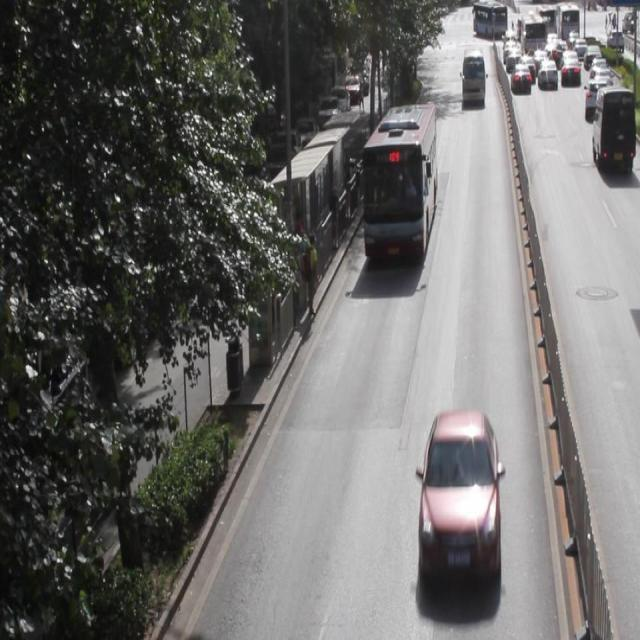BigCar: (368, 106, 443, 269), (593, 94, 637, 188), (468, 0, 512, 47), (520, 6, 554, 66), (462, 52, 490, 108), (554, 0, 584, 51)
car: (418, 360, 504, 582), (508, 55, 539, 98), (587, 71, 612, 114), (557, 48, 582, 86), (533, 57, 557, 94), (606, 30, 627, 56)
